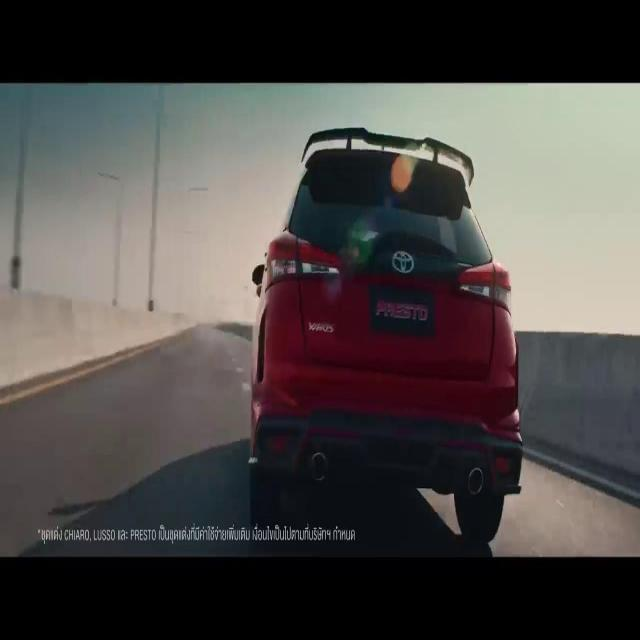Hatchback: (249, 128, 522, 542)
